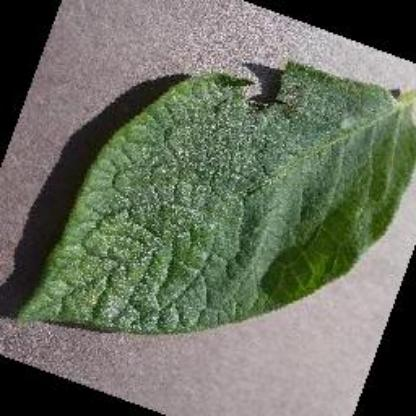Healthy-plant: (43, 19, 415, 395)
